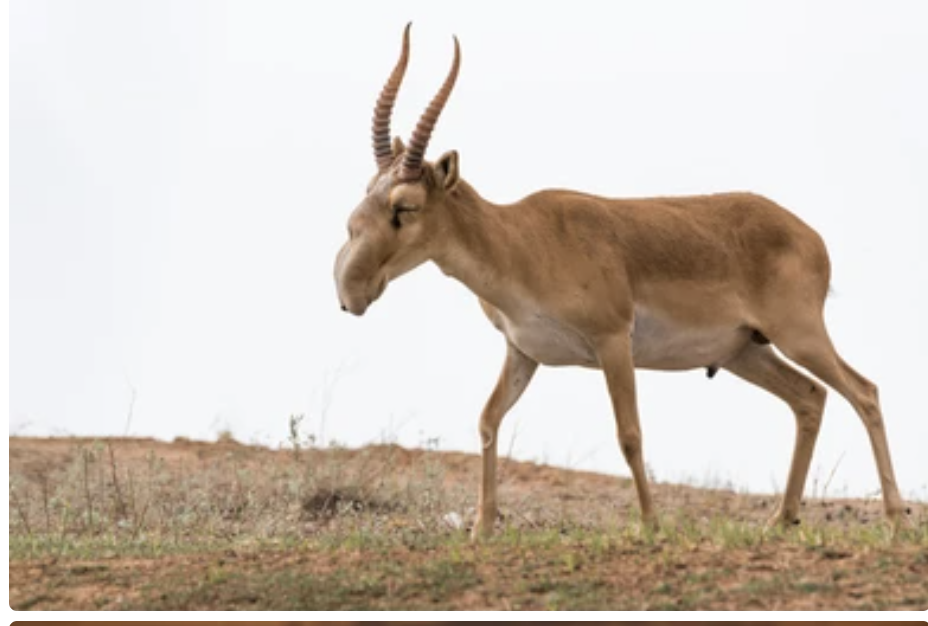saiga: (314, 15, 925, 545)
